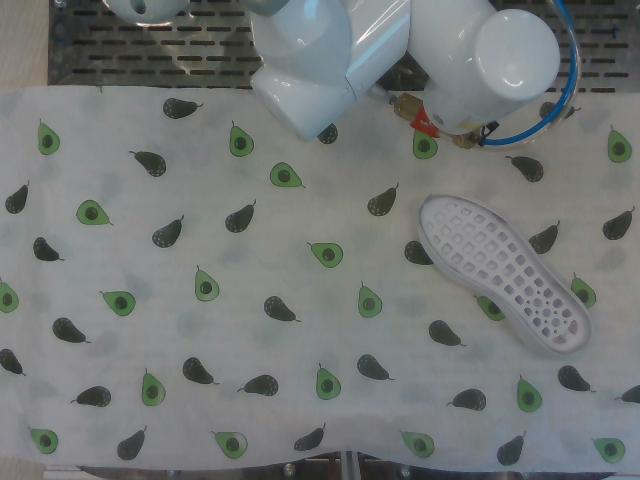shoes: (419, 195, 592, 355)
